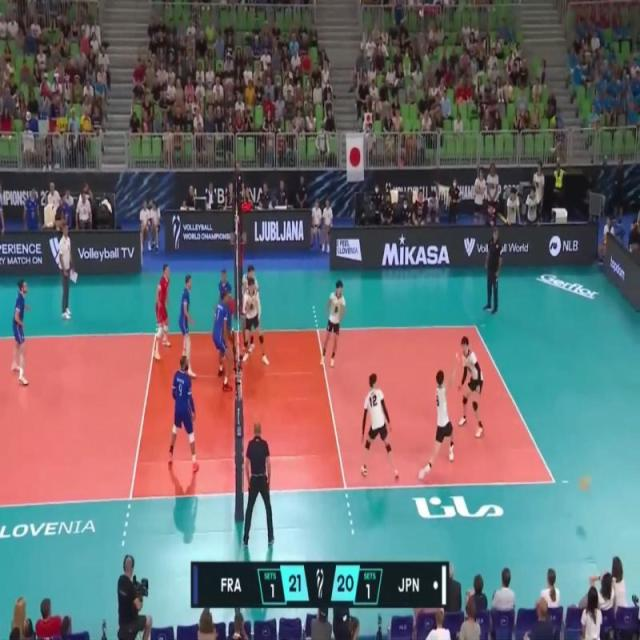volleyball: (578, 476, 593, 490)
